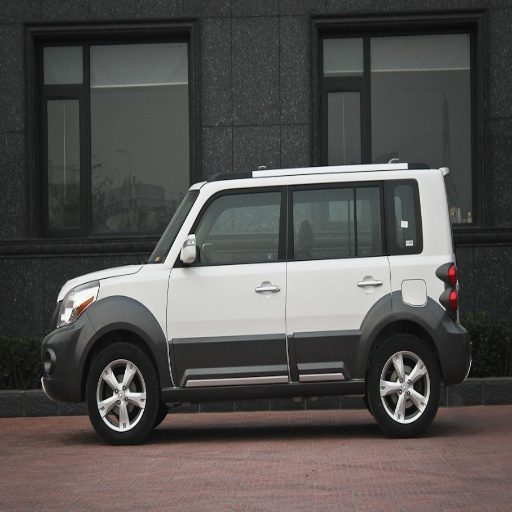back_left_door: (286, 180, 391, 376)
front_left_door: (167, 185, 291, 383)
